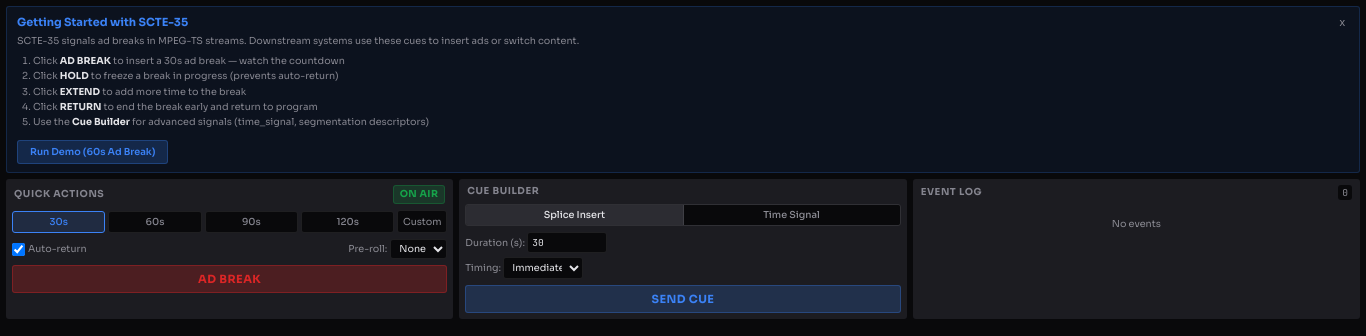
Scenario: SCTE35Panel › dismisses guide when dismiss button clicked
The width and height of the screenshot is (1366, 336).
Click the button with class "guide-dismiss": [1342, 23] box [1335,17,1349,28]
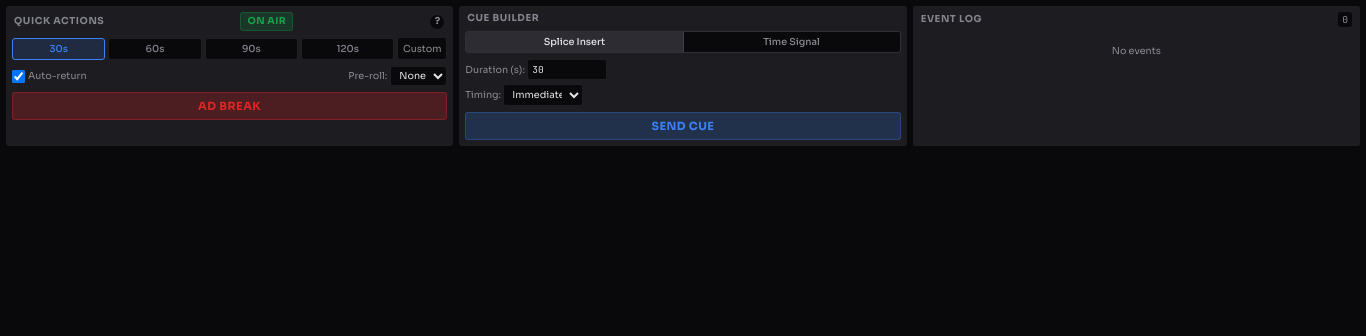
Result: the element with class "guide-banner" is gone
